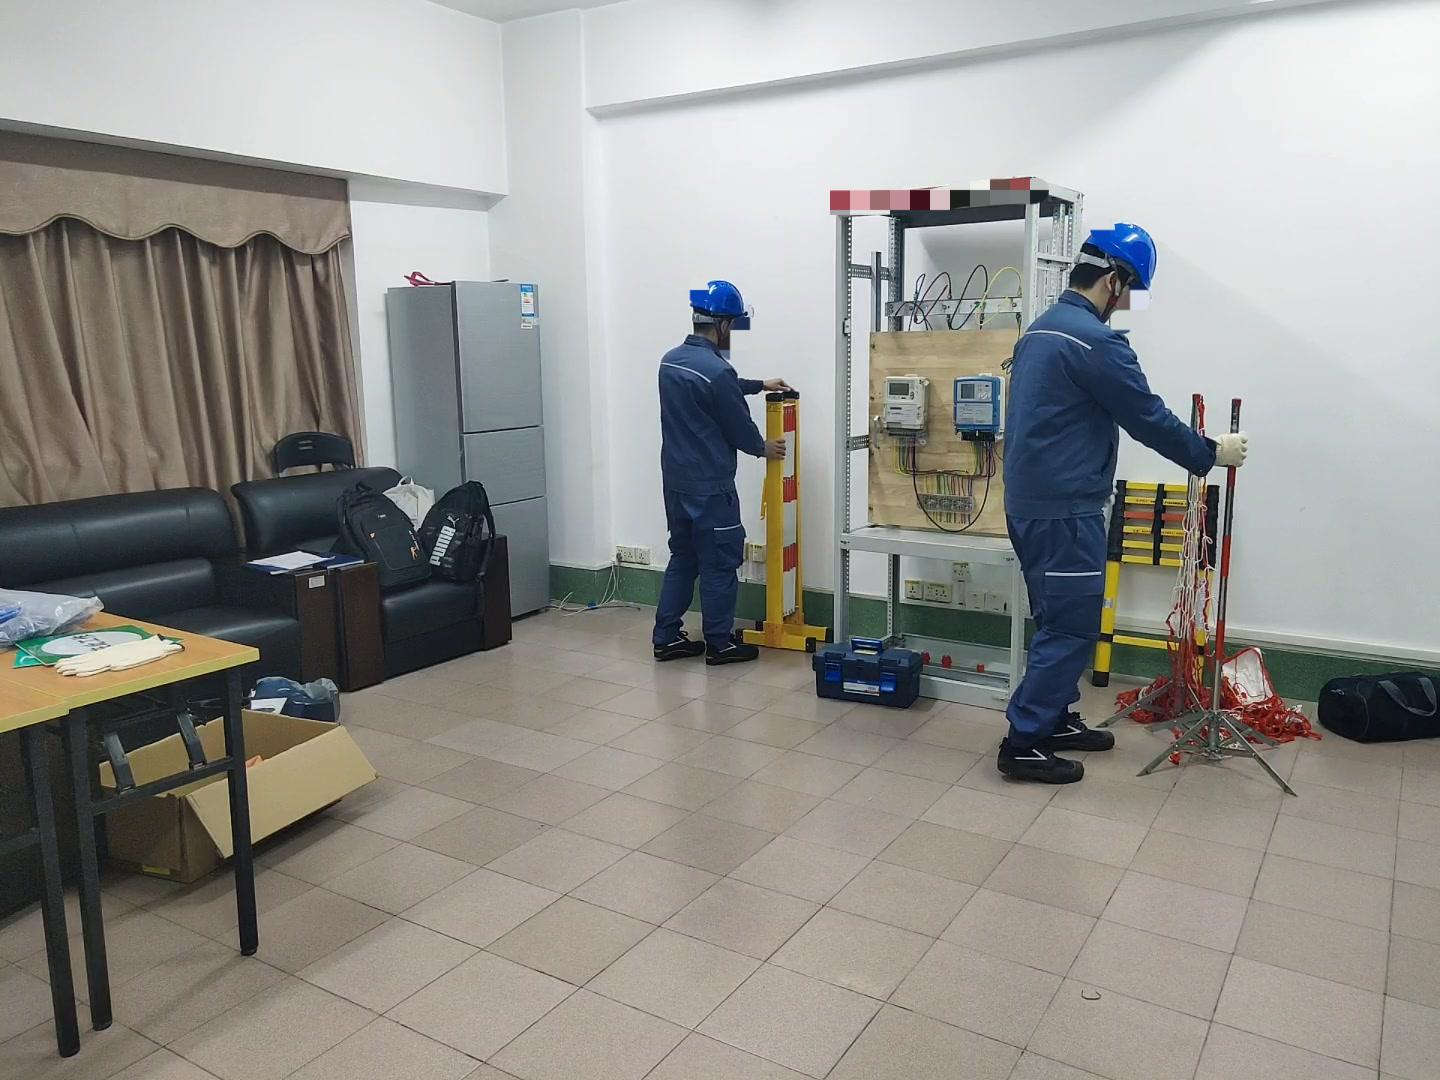halt: (1069, 223, 1162, 313), (691, 282, 749, 348)
inear: (1102, 267, 1134, 312), (715, 317, 738, 345)
